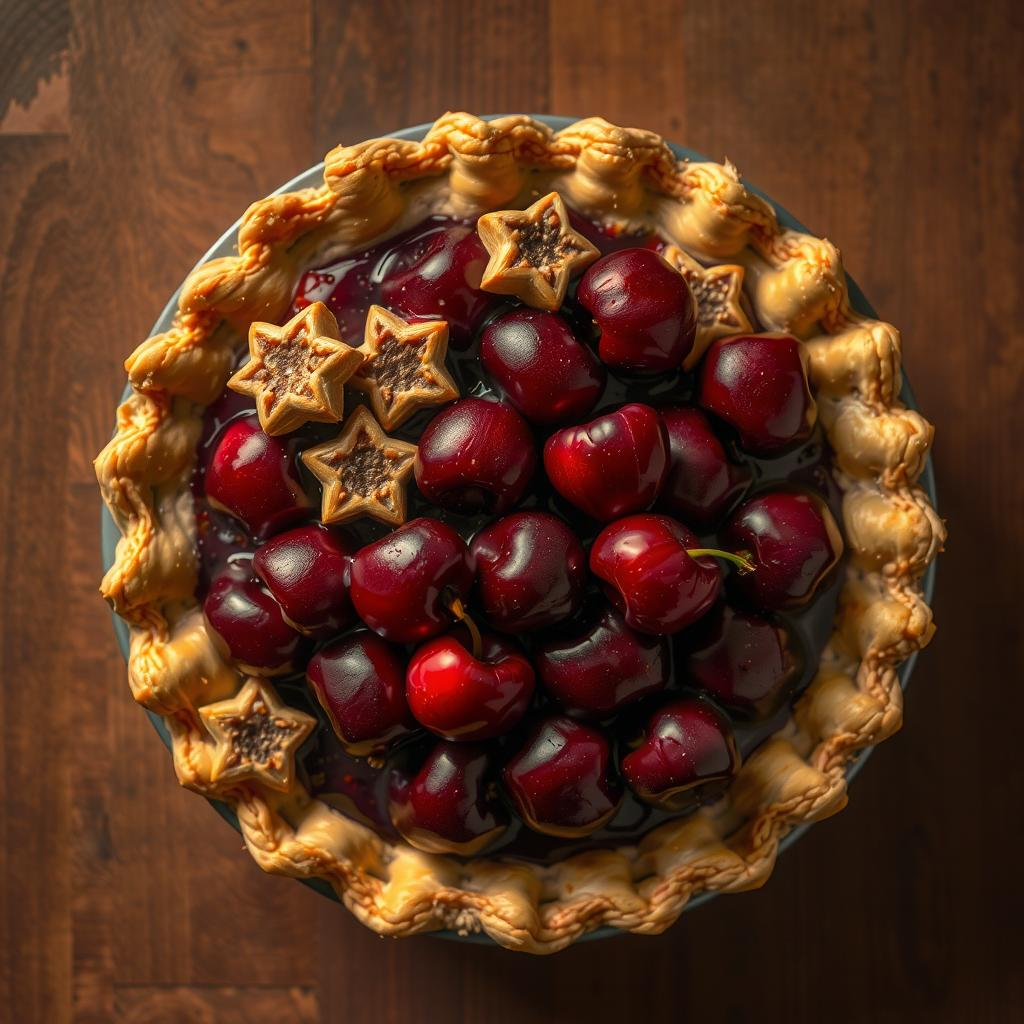pie: (91, 104, 956, 961)
